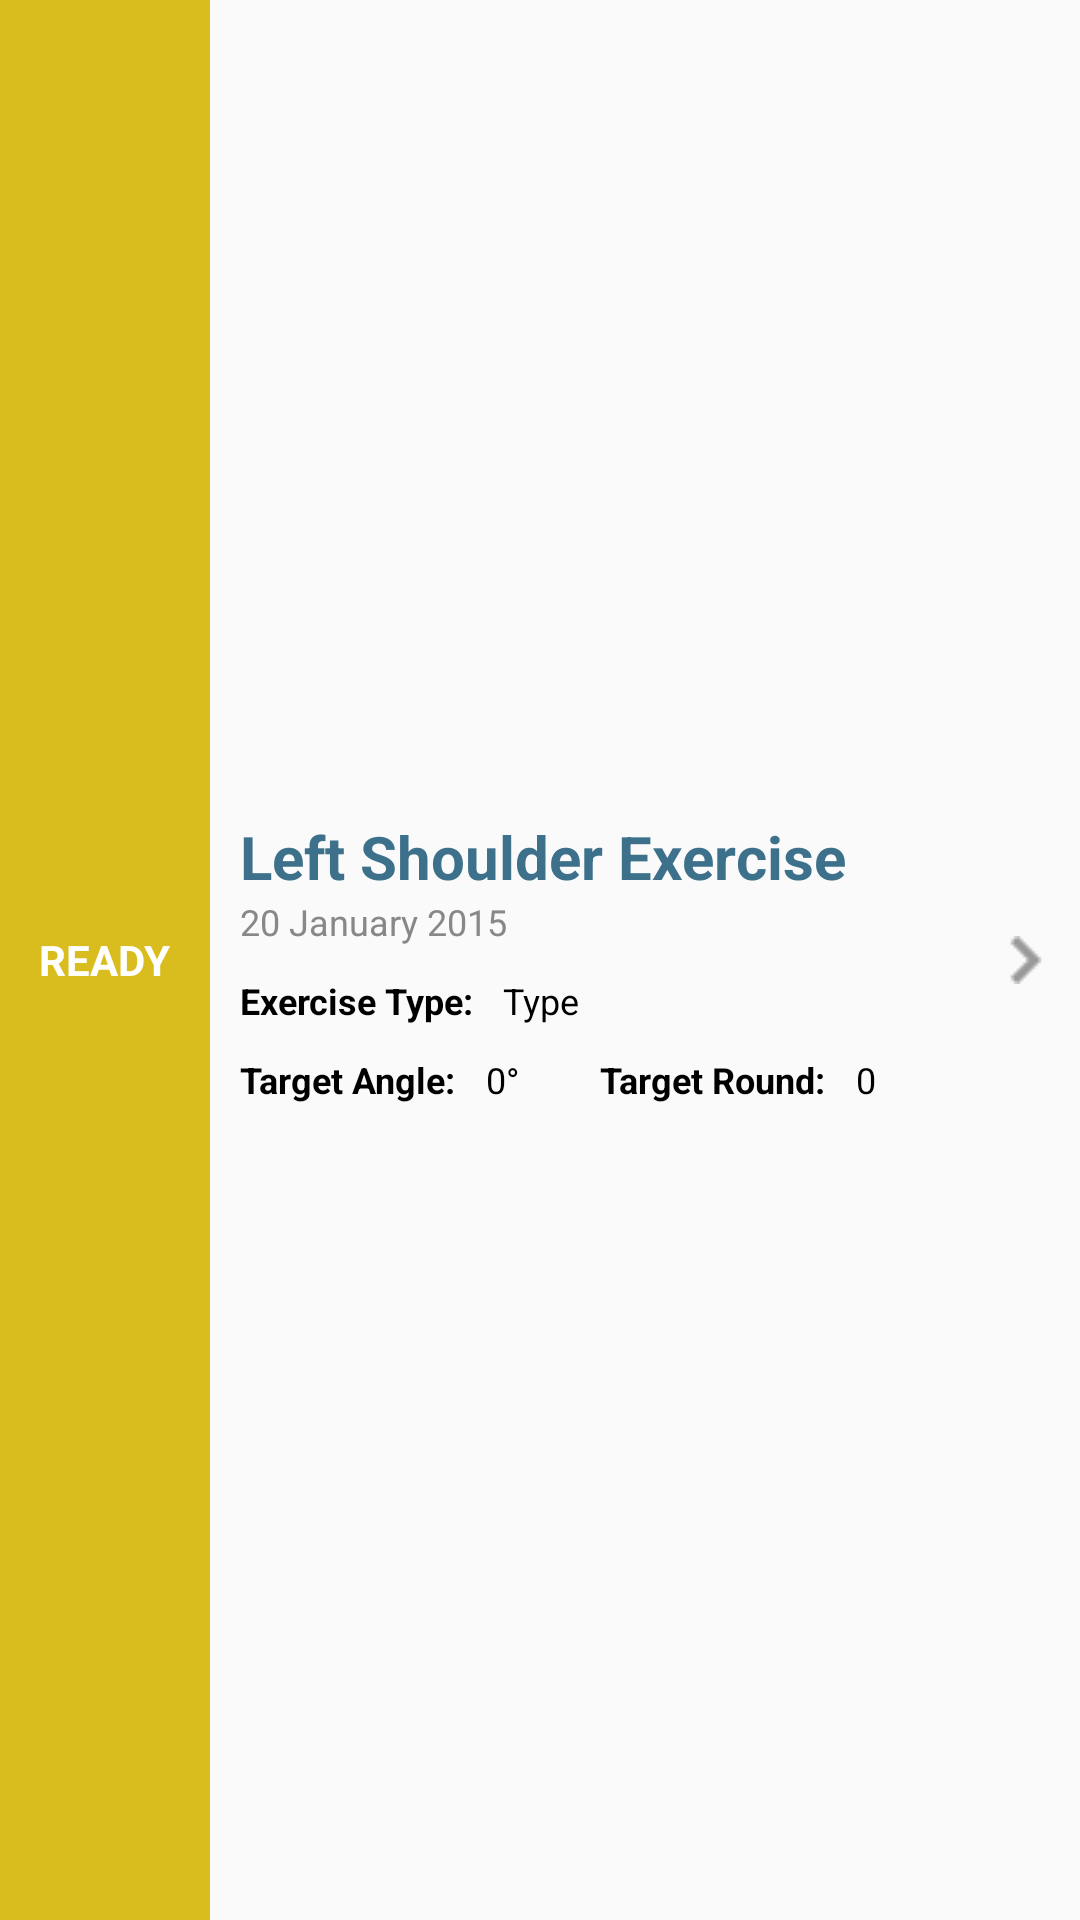

Point at icon controls on the screen. Image size 1080 × 1920, points as (x,y).
arrow: (1026,960)
